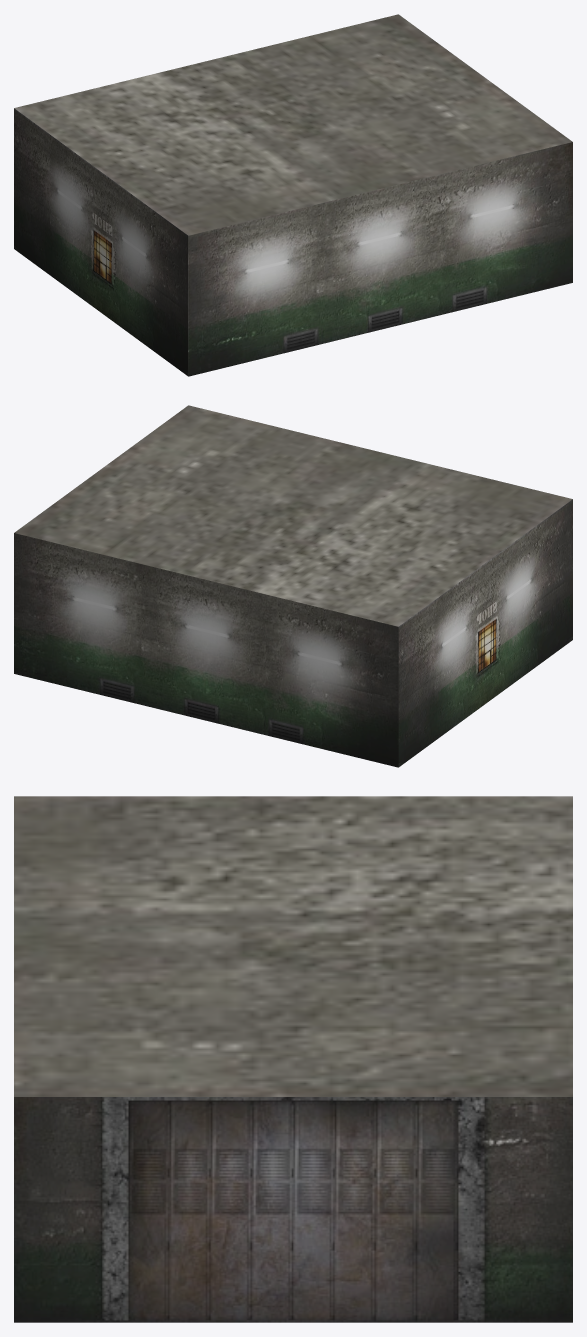
File: garage.glb
3 renders of one model, top to bottom at view 1: azimuth 30°, elevation 25°; view 2: azimuth 150°, elevation 25°; view 3: azimuth 270°, elevation 25°, orthographic. The views are drawn at different scales.
Parts seen in each view (by area): view 1: Object; view 2: Object; view 3: Object.
Boxes of the visible parts, left/top/right/bottom form: Object: left=14, top=14, right=572, bottom=376; Object: left=14, top=405, right=572, bottom=767; Object: left=14, top=796, right=572, bottom=1322.
Size of the model in its own units: 1400 by 490 by 1100.
1 material, 1 textured.
